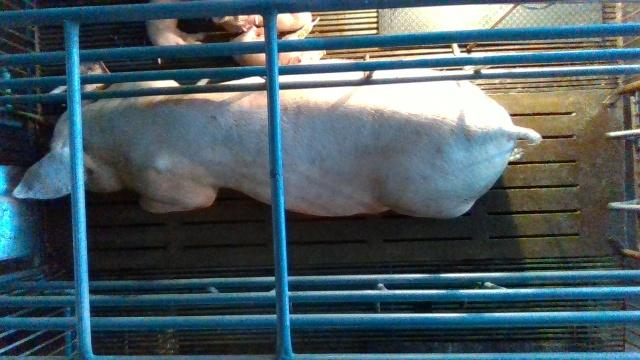piglet: (146, 0, 205, 65), (227, 32, 328, 66), (212, 12, 322, 33)
sow-sit: (12, 58, 543, 218)
